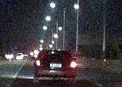L_light: (35, 60, 44, 66)
R_light: (67, 61, 77, 68)
T_light: (52, 52, 60, 54)
night-no: (33, 49, 78, 84)
